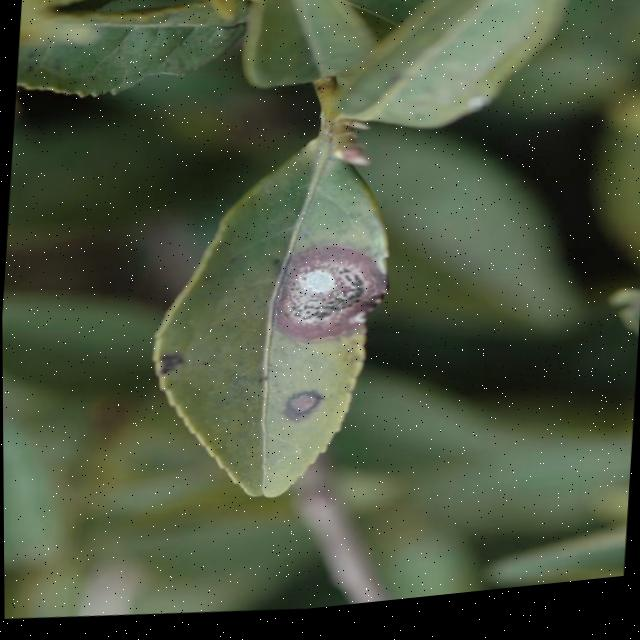Tea cloud leaf blight: (269, 241, 399, 352)
